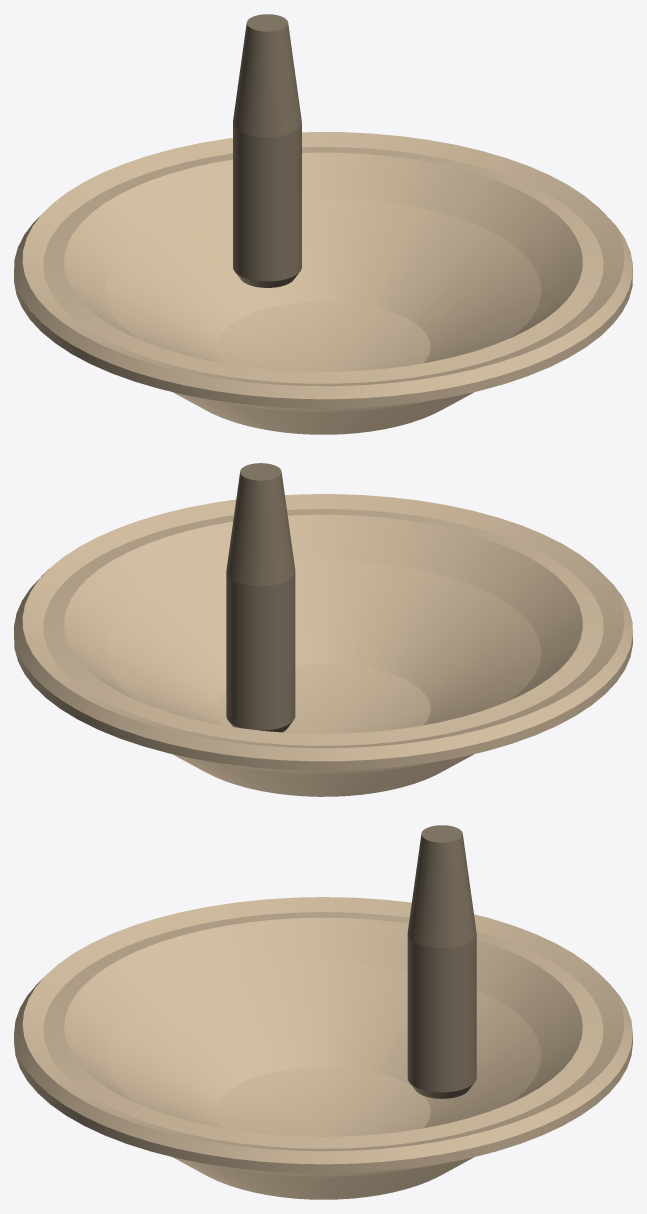
The picture shows the model from 3 angles, top to bottom: view 1: azimuth 30°, elevation 25°; view 2: azimuth 150°, elevation 25°; view 3: azimuth 270°, elevation 25°; orthographic projection.
Parts seen in each view (by area): view 1: dish_body, upright; view 2: dish_body, upright; view 3: dish_body, upright.
Boxes of the visible parts, x1,y1,x2,y2 form: dish_body: [14, 132, 632, 434]; upright: [233, 14, 301, 287]; dish_body: [14, 494, 632, 796]; upright: [226, 463, 295, 732]; dish_body: [14, 897, 632, 1199]; upright: [407, 825, 476, 1098].
Size of the model in its own units: 0.179 by 0.0972 by 0.179.
